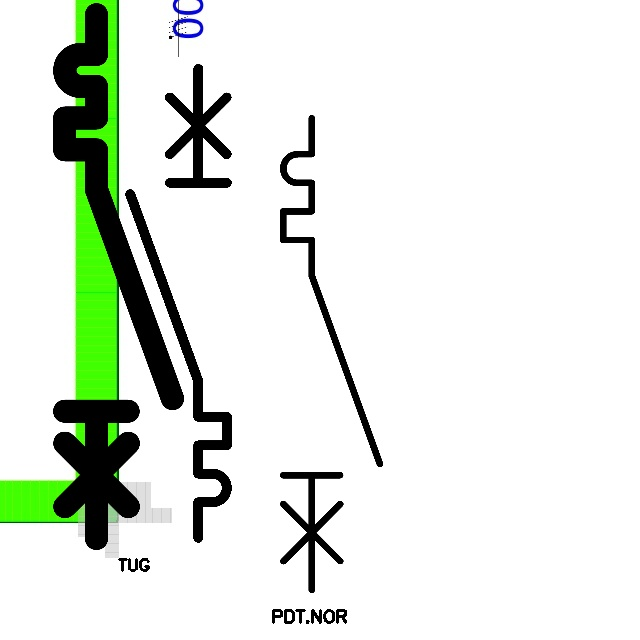interruptor_termomagnetico: (51, 1, 186, 552), (271, 106, 392, 601), (118, 56, 239, 549)
